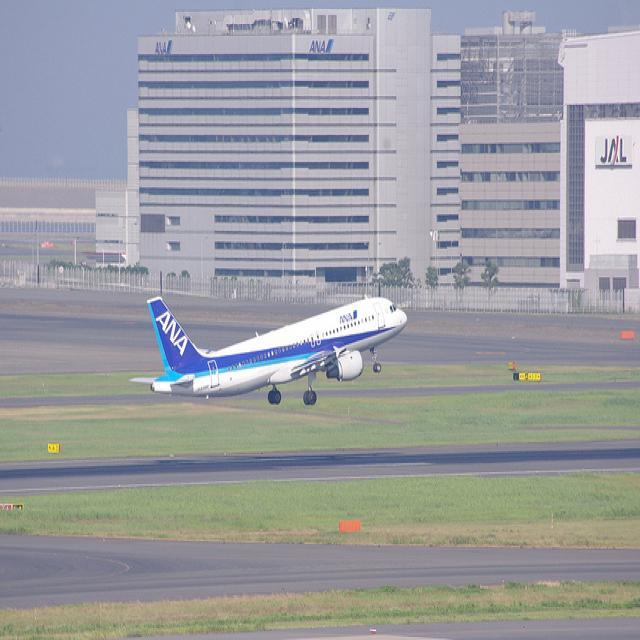airplane: (128, 293, 409, 408)
